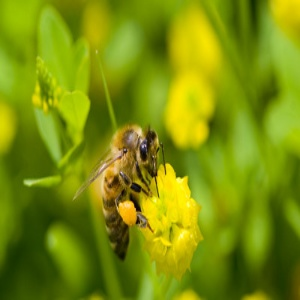bee: (71, 120, 171, 267)
